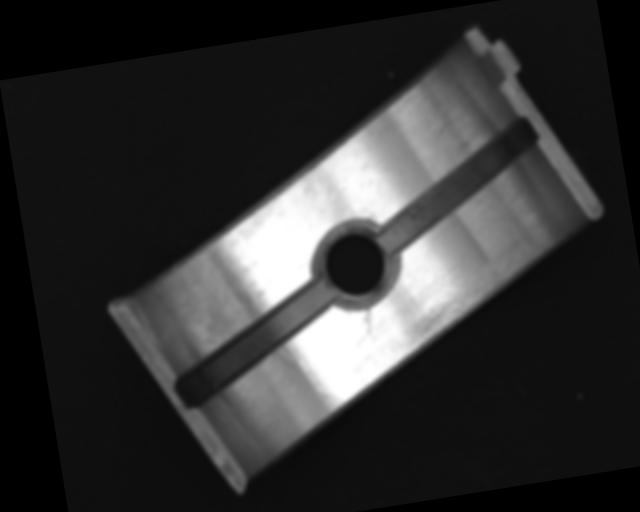gap: (365, 116, 553, 255), (165, 281, 343, 407)
hole: (309, 217, 401, 311)
nick: (298, 352, 344, 412), (362, 309, 375, 335)
scratch: (395, 236, 558, 351)
